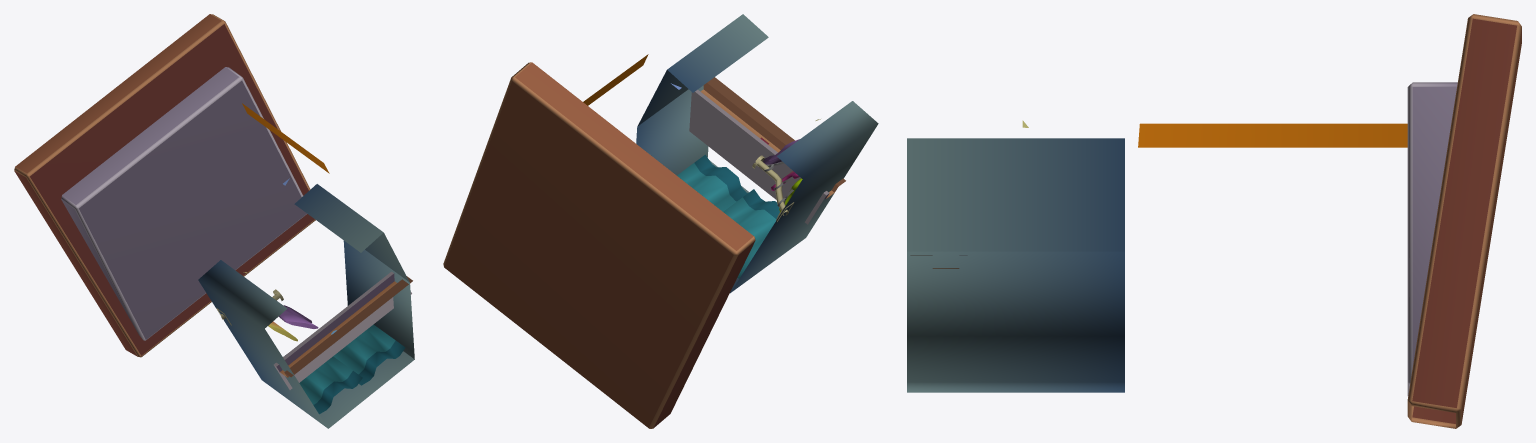
The model's file is CarsDisneyStore.fbx.
3 views of the same model, side by side, from view 1: azimuth 30°, elevation 25°; view 2: azimuth 150°, elevation 25°; view 3: azimuth 270°, elevation 25° (orthographic). The views are drawn at different scales.
Visible parts, largest first — view 1: CarsDisneyStore; view 2: CarsDisneyStore; view 3: CarsDisneyStore.
Boxes of the visible parts, <box> form: CarsDisneyStore: <box>14,14,414,428</box>; CarsDisneyStore: <box>443,14,878,428</box>; CarsDisneyStore: <box>907,14,1521,428</box>.
Size of the model in its own units: 453 by 468 by 529.
